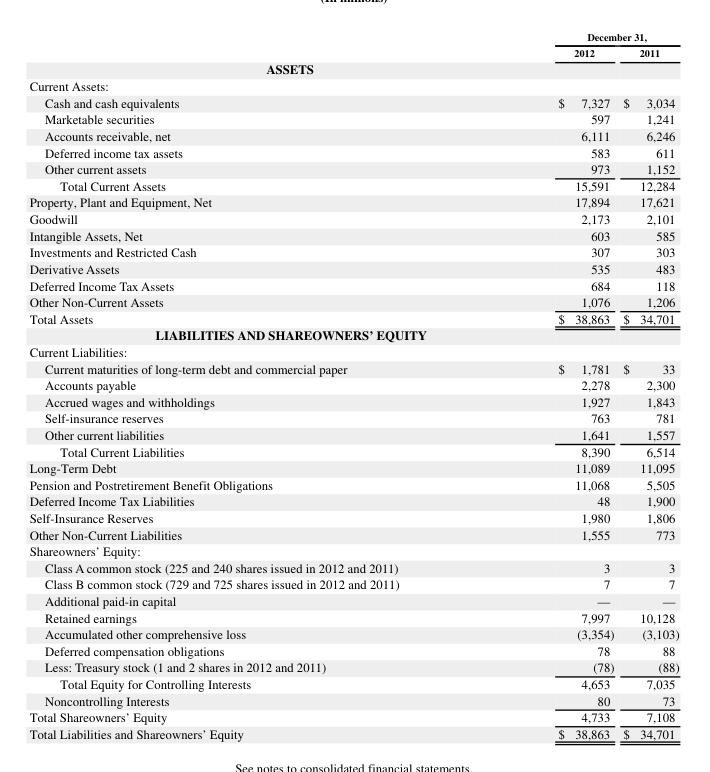table: (28, 28, 678, 741)
table column: (28, 28, 478, 741), (478, 28, 618, 741), (618, 28, 678, 741)
table column header: (28, 28, 678, 59)
table projected row header: (28, 59, 678, 77), (28, 342, 678, 359), (28, 541, 678, 558), (28, 77, 678, 93), (28, 326, 678, 342)
table row: (28, 59, 678, 77), (28, 93, 678, 110), (28, 126, 678, 143), (28, 143, 678, 160), (28, 176, 678, 193), (28, 209, 678, 226), (28, 226, 678, 243), (28, 259, 678, 276), (28, 292, 678, 309), (28, 309, 678, 326), (28, 342, 678, 359), (28, 375, 678, 392), (28, 392, 678, 409), (28, 425, 678, 442), (28, 458, 678, 475), (28, 475, 678, 492), (28, 508, 678, 525), (28, 541, 678, 558), (28, 558, 678, 575), (28, 591, 678, 608), (28, 624, 678, 641), (28, 641, 678, 658), (28, 674, 678, 691), (28, 707, 678, 724), (28, 724, 678, 741), (28, 28, 678, 44), (28, 77, 678, 93), (28, 110, 678, 126), (28, 160, 678, 176), (28, 193, 678, 209), (28, 243, 678, 259), (28, 276, 678, 292), (28, 326, 678, 342), (28, 359, 678, 375), (28, 409, 678, 425), (28, 442, 678, 458), (28, 492, 678, 508), (28, 525, 678, 541), (28, 575, 678, 591), (28, 608, 678, 624), (28, 658, 678, 674), (28, 691, 678, 707), (28, 44, 678, 59)
table spanning cell: (478, 28, 678, 44)
